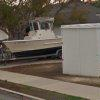Boat: (0, 19, 62, 59)
